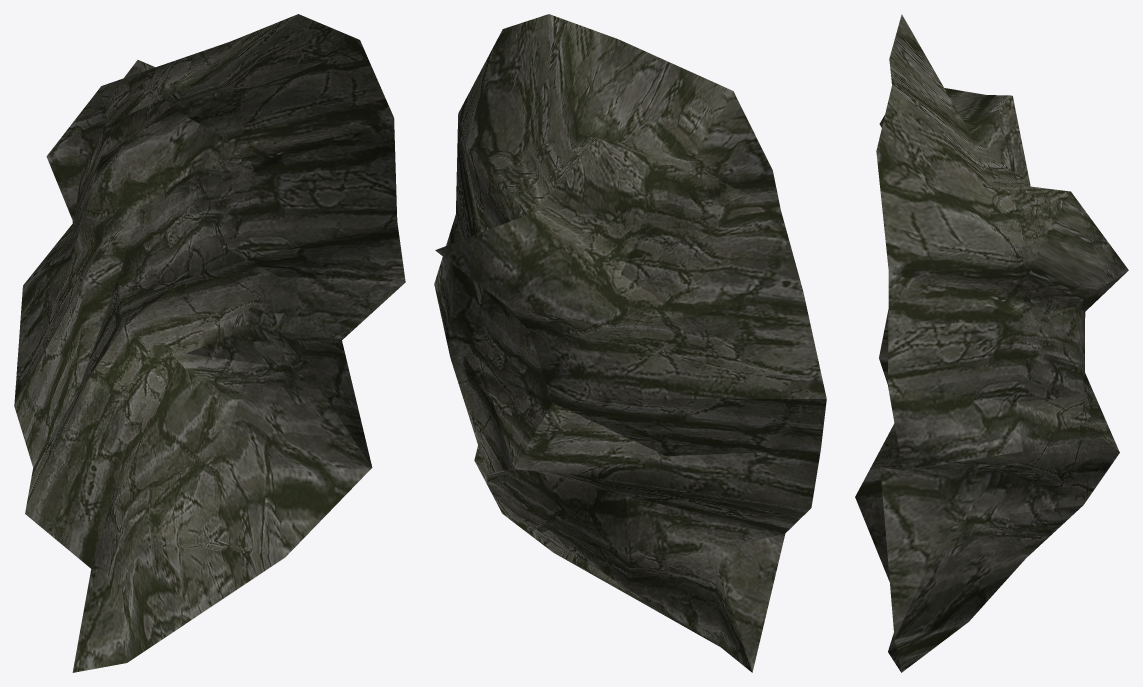
File: rock_003.FBX
The picture shows the model from 3 angles, left to right: view 1: azimuth 30°, elevation 25°; view 2: azimuth 150°, elevation 25°; view 3: azimuth 270°, elevation 25°; orthographic projection. The views are drawn at different scales.
Visible parts, largest first — view 1: TI_Cliff_02_n_LOD_02; view 2: TI_Cliff_02_n_LOD_02; view 3: TI_Cliff_02_n_LOD_02.
Boxes of the visible parts, x1=… form: TI_Cliff_02_n_LOD_02: x1=14, y1=14, x2=405, y2=672; TI_Cliff_02_n_LOD_02: x1=434, y1=14, x2=826, y2=672; TI_Cliff_02_n_LOD_02: x1=855, y1=14, x2=1128, y2=672.
Size of the model in its own units: 2.32 by 3.42 by 1.28.
1 material, 1 textured.
